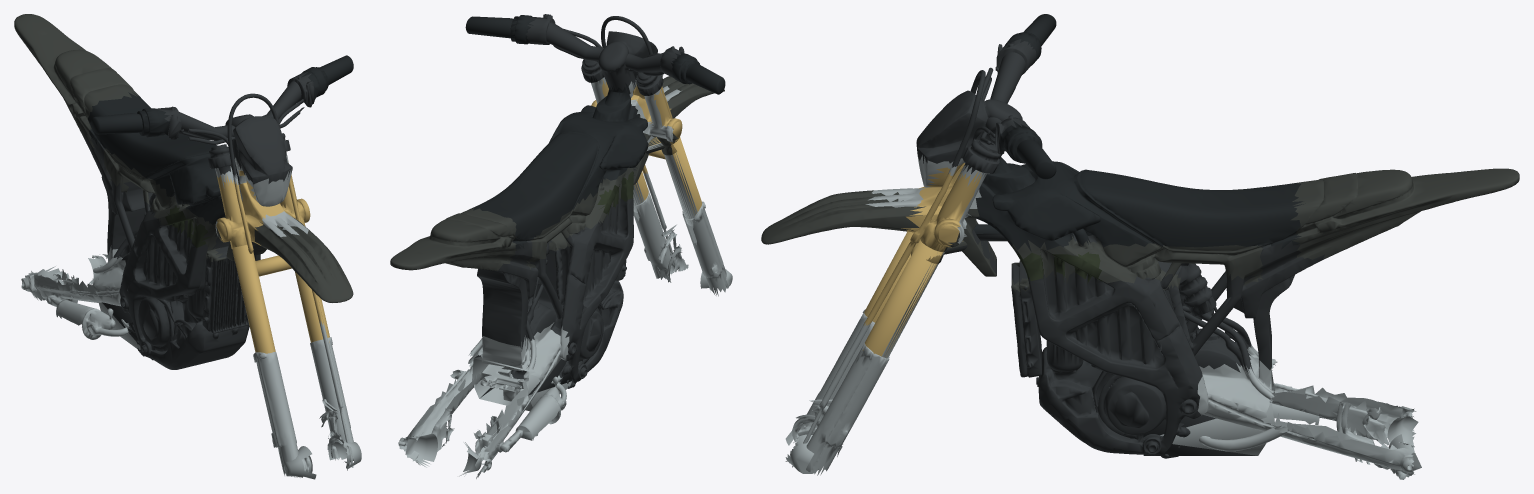
The model's file is ultra.glb.
3 views of the same model, side by side, from view 1: azimuth 30°, elevation 25°; view 2: azimuth 150°, elevation 25°; view 3: azimuth 270°, elevation 25° (orthographic). The views are drawn at different scales.
Visible parts, largest first — view 1: UltraBee_Graphite battery and motor, UltraBee_Graphite plastics, Steering_Fork stanchions, Steering_Graphite battery and motor, UltraBee_Seat and grips, FrontSuspension_Silver alloy, RearSwing_Silver alloy, Steering_Graphite plastics, Steering_Seat and grips, Steering_Silver alloy, UltraBee_Dark trim; view 2: UltraBee_Graphite battery and motor, RearSwing_Silver alloy, UltraBee_Seat and grips, UltraBee_Graphite plastics, Steering_Graphite battery and motor, FrontSuspension_Silver alloy, Steering_Seat and grips, Steering_Fork stanchions, Steering_Silver alloy, Steering_Graphite plastics, UltraBee_Dark trim; view 3: UltraBee_Graphite battery and motor, UltraBee_Seat and grips, UltraBee_Graphite plastics, RearSwing_Silver alloy, Steering_Fork stanchions, Steering_Graphite battery and motor, FrontSuspension_Silver alloy, Steering_Graphite plastics, Steering_Seat and grips, Steering_Silver alloy, UltraBee_Dark trim.
Boxes of the visible parts, x1,y1,x2,y2 form: UltraBee_Graphite battery and motor: (85,135,265,369); UltraBee_Graphite plastics: (14,14,266,262); Steering_Fork stanchions: (216,163,329,353); Steering_Graphite battery and motor: (156,72,313,184); UltraBee_Seat and grips: (87,92,240,224); FrontSuspension_Silver alloy: (249,299,361,479); RearSwing_Silver alloy: (21,243,151,359); Steering_Graphite plastics: (216,217,353,302); Steering_Seat and grips: (91,55,353,137); Steering_Silver alloy: (215,153,308,237); UltraBee_Dark trim: (165,205,211,247); UltraBee_Graphite battery and motor: (474,147,664,397); RearSwing_Silver alloy: (398,322,571,478); UltraBee_Seat and grips: (470,75,652,248); UltraBee_Graphite plastics: (390,115,663,270); Steering_Graphite battery and motor: (525,14,684,95); FrontSuspension_Silver alloy: (633,152,732,296); Steering_Seat and grips: (465,15,725,94); Steering_Fork stanchions: (591,76,701,215); Steering_Silver alloy: (591,74,693,218); Steering_Graphite plastics: (648,76,724,155); UltraBee_Dark trim: (597,171,633,217); UltraBee_Graphite battery and motor: (944,219,1328,458); UltraBee_Seat and grips: (973,154,1305,251); UltraBee_Graphite plastics: (962,168,1519,293); RearSwing_Silver alloy: (1160,344,1421,479); Steering_Fork stanchions: (863,163,981,356); Steering_Graphite battery and motor: (916,39,1036,173); FrontSuspension_Silver alloy: (785,255,938,475); Steering_Graphite plastics: (761,190,967,263); Steering_Seat and grips: (1000,14,1056,179); Steering_Silver alloy: (865,155,989,356); UltraBee_Dark trim: (1017,252,1102,283).
Size of the model in its own units: 0.8 by 0.9861 by 1.73.
